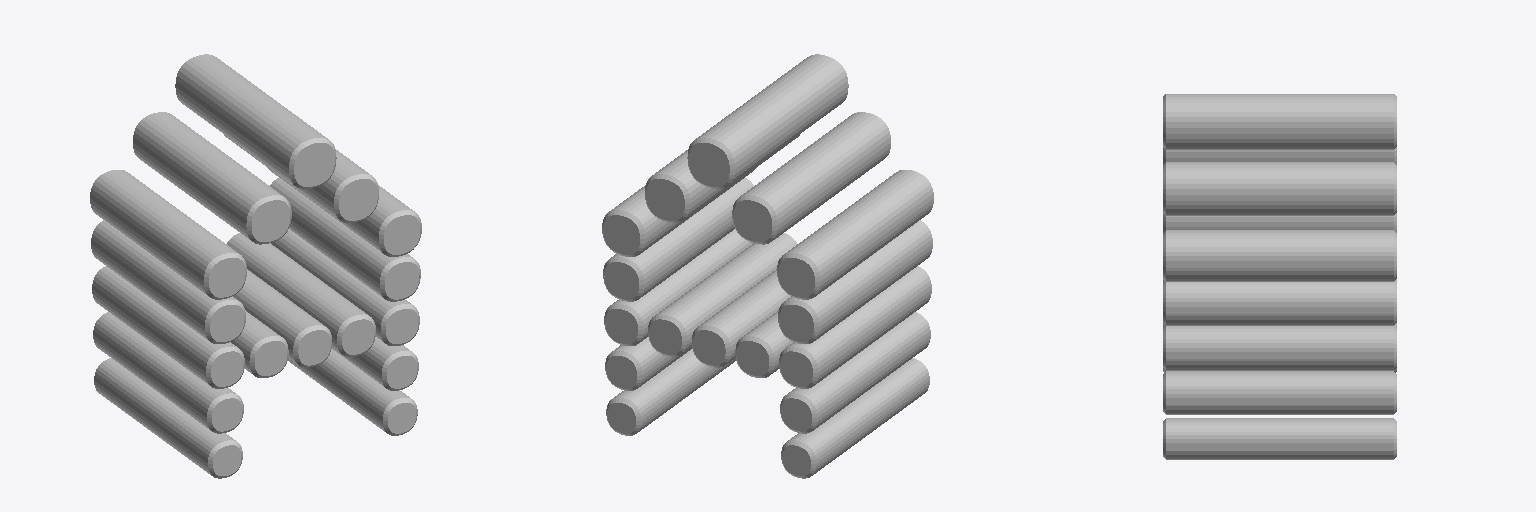
The picture shows the model from 3 angles: view 1: azimuth 30°, elevation 25°; view 2: azimuth 150°, elevation 25°; view 3: azimuth 270°, elevation 25°; orthographic projection.
Parts seen in each view (by area): view 1: side, frbk; view 2: side, frbk; view 3: side.
Part boxes in pixels (x1,y1,x2,y2): side: (90, 54, 421, 478); frbk: (209, 143, 419, 475); side: (602, 54, 933, 478); frbk: (604, 143, 814, 475); side: (1163, 94, 1396, 459).
Size of the model in its own units: 1 by 1.39 by 0.9318.